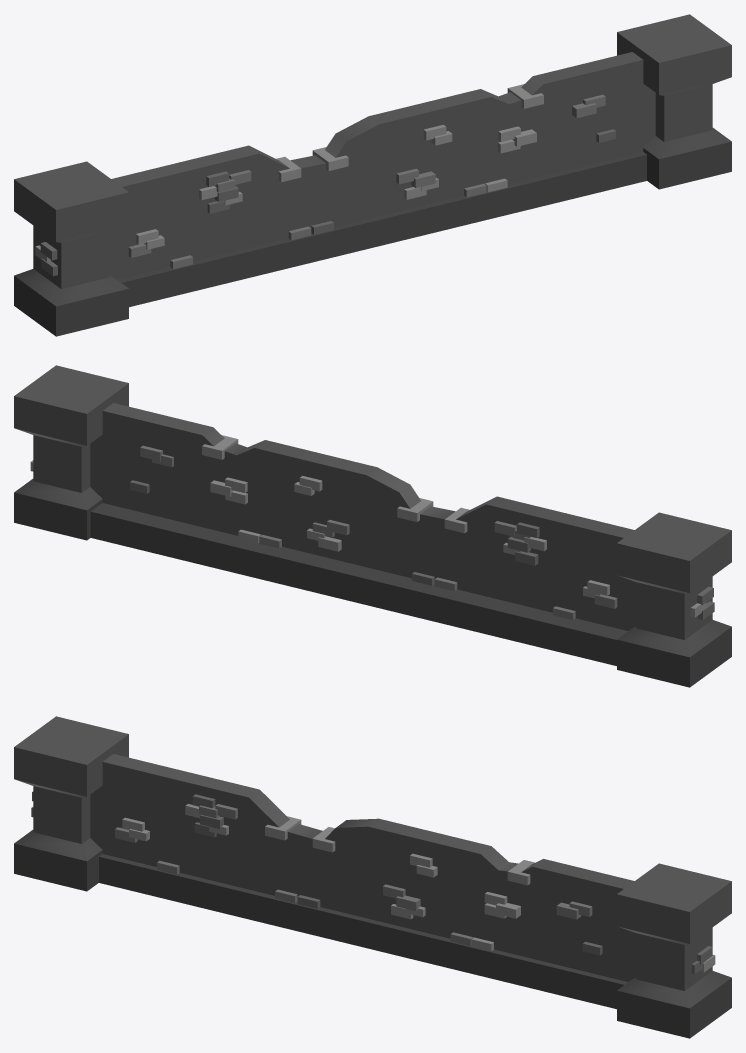
Rendered from Wall2.fbx.
3 renders of one model, top to bottom at view 1: azimuth 30°, elevation 25°; view 2: azimuth 150°, elevation 25°; view 3: azimuth 330°, elevation 25°, orthographic.
Visible parts, largest first — view 1: Wall2; view 2: Wall2; view 3: Wall2.
Boxes of the visible parts, x1,y1,x2,y2 form: Wall2: [14, 14, 731, 336]; Wall2: [14, 365, 731, 687]; Wall2: [14, 716, 731, 1038].
Bounding box in the file's own units: 35.88 × 6.42 × 3.88.
